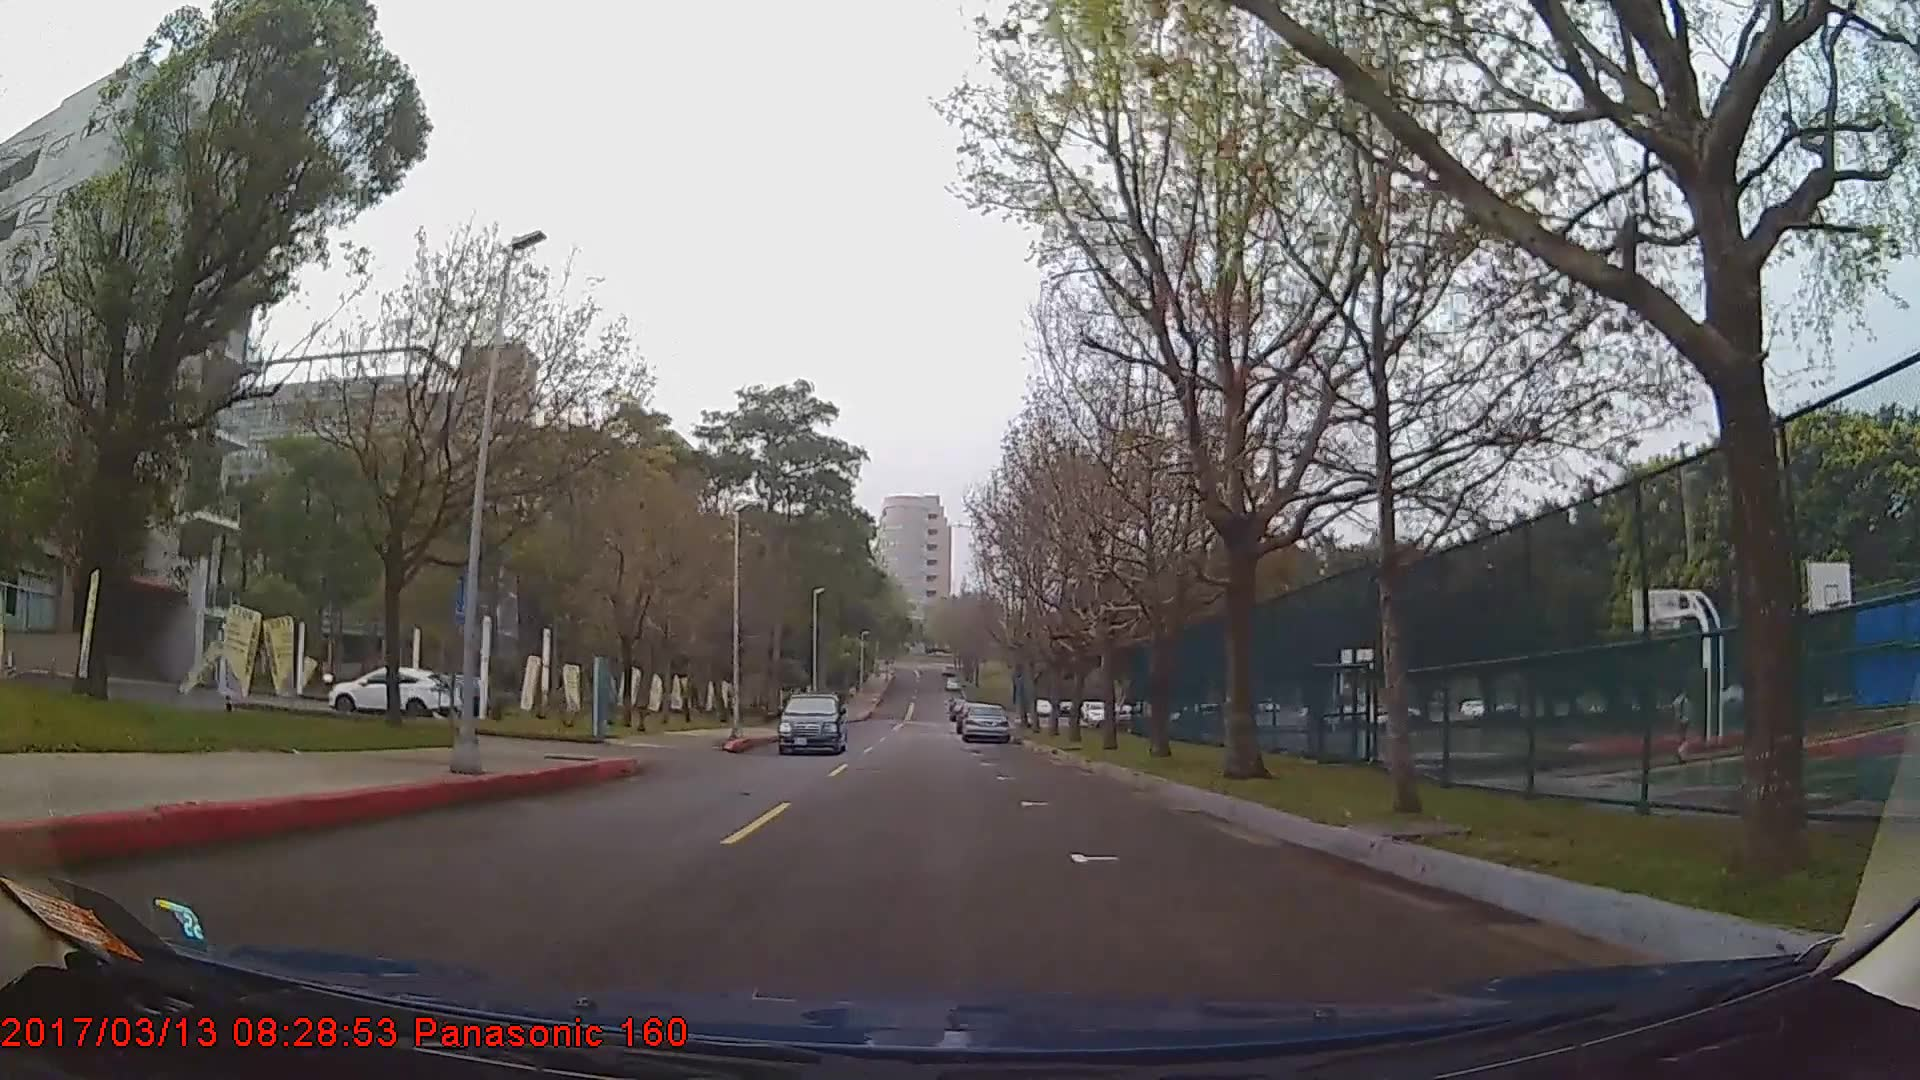vehicle: (326, 662, 455, 719), (773, 691, 843, 754), (959, 700, 1007, 742)
